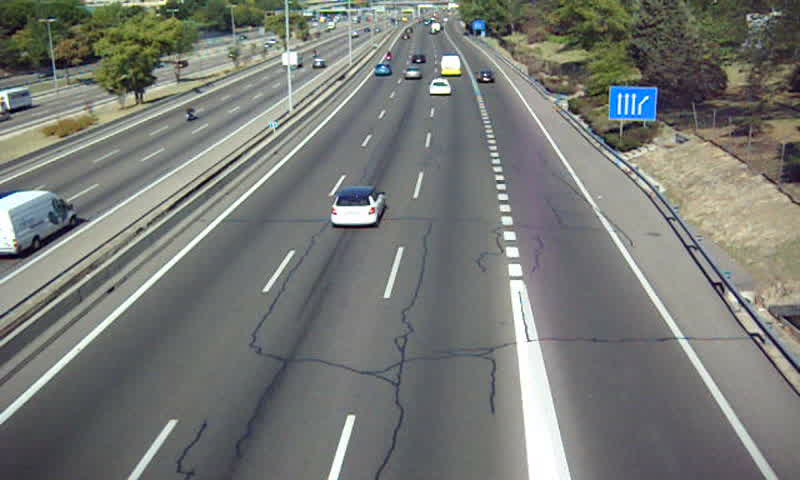car: (331, 187, 384, 225), (428, 80, 453, 96), (401, 66, 422, 80), (372, 63, 391, 78), (475, 71, 495, 84)
van: (440, 55, 461, 75)
